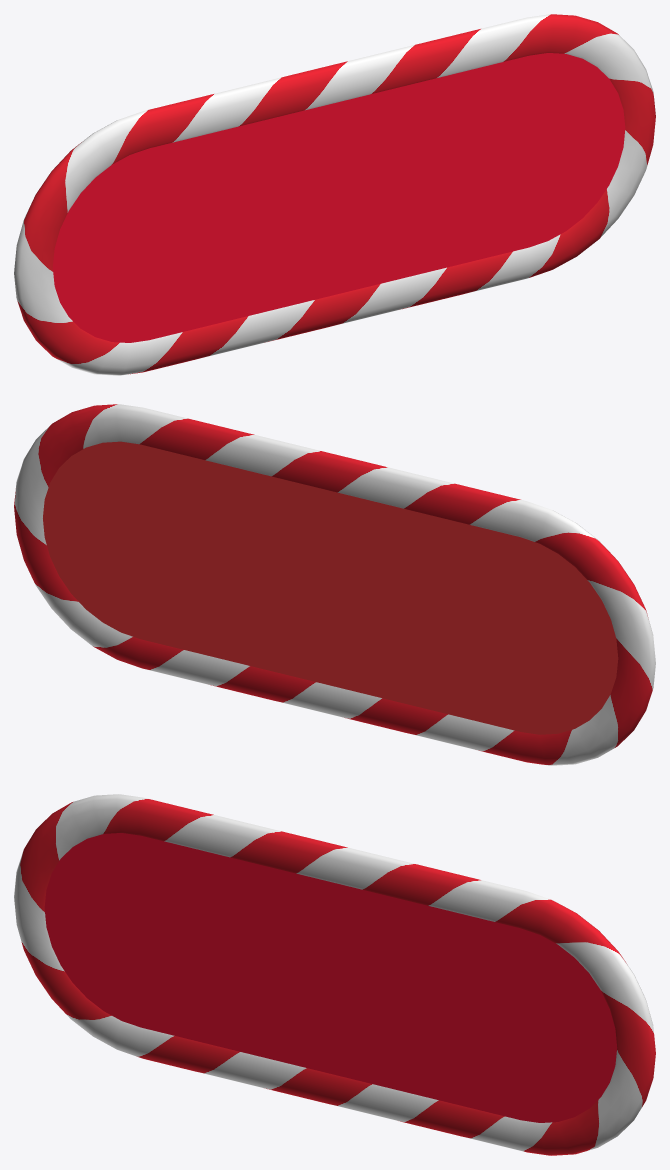
The model's file is collection_highlight.glb.
3 renders of one model, top to bottom at view 1: azimuth 30°, elevation 25°; view 2: azimuth 150°, elevation 25°; view 3: azimuth 330°, elevation 25°, orthographic.
Visible parts, largest first — view 1: Cylinder, Cylinder.001; view 2: Cylinder, Cylinder.001; view 3: Cylinder, Cylinder.001.
Boxes of the visible parts, <box> form: Cylinder: <box>52,53,625,342</box>; Cylinder.001: <box>14,14,655,375</box>; Cylinder: <box>43,441,618,734</box>; Cylinder.001: <box>14,404,655,765</box>; Cylinder: <box>44,833,617,1122</box>; Cylinder.001: <box>14,794,655,1155</box>.
Size of the model in its own units: 1.18 by 0.4588 by 0.0337.
2 materials, 2 textured.
